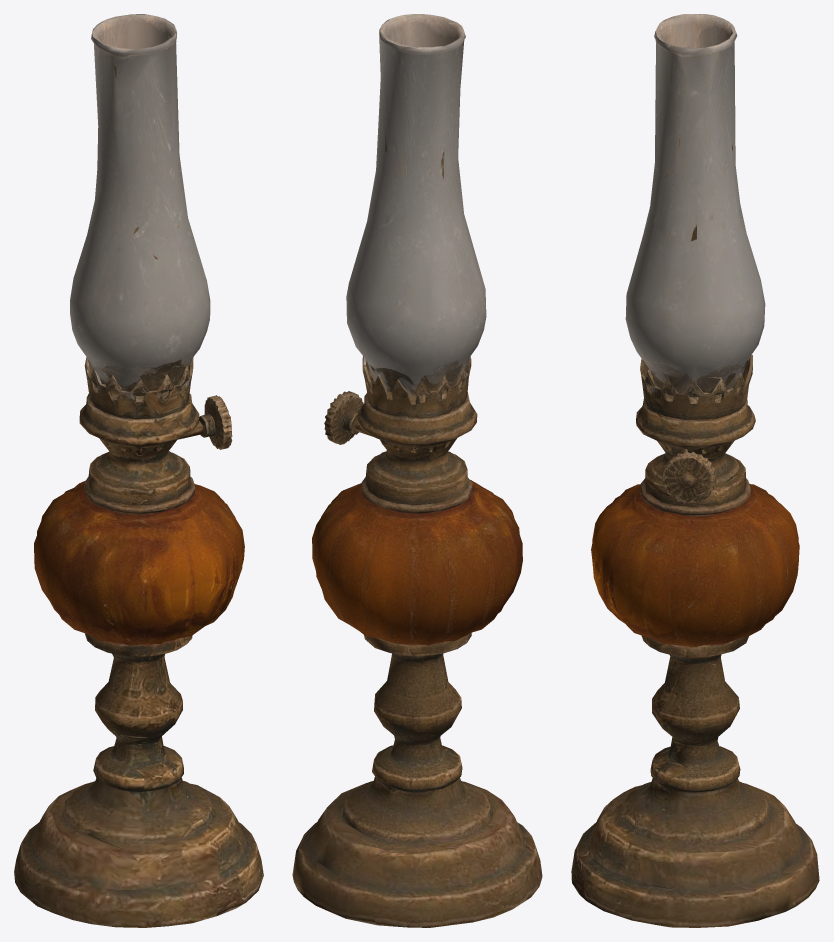
File: up_oil_lamp.glb
3 renders of one model, left to right at view 1: azimuth 30°, elevation 25°; view 2: azimuth 150°, elevation 25°; view 3: azimuth 270°, elevation 25°, orthographic.
Visible parts, largest first — view 1: up_oil_lamp; view 2: up_oil_lamp; view 3: up_oil_lamp.
Boxes of the visible parts, x1,y1,x2,y2 form: up_oil_lamp: (14, 14, 263, 927); up_oil_lamp: (292, 14, 542, 927); up_oil_lamp: (571, 14, 819, 927).
Bounding box in the file's own units: 0.1283 × 0.48 × 0.128.
Materials: 1 (1 with a texture image).
